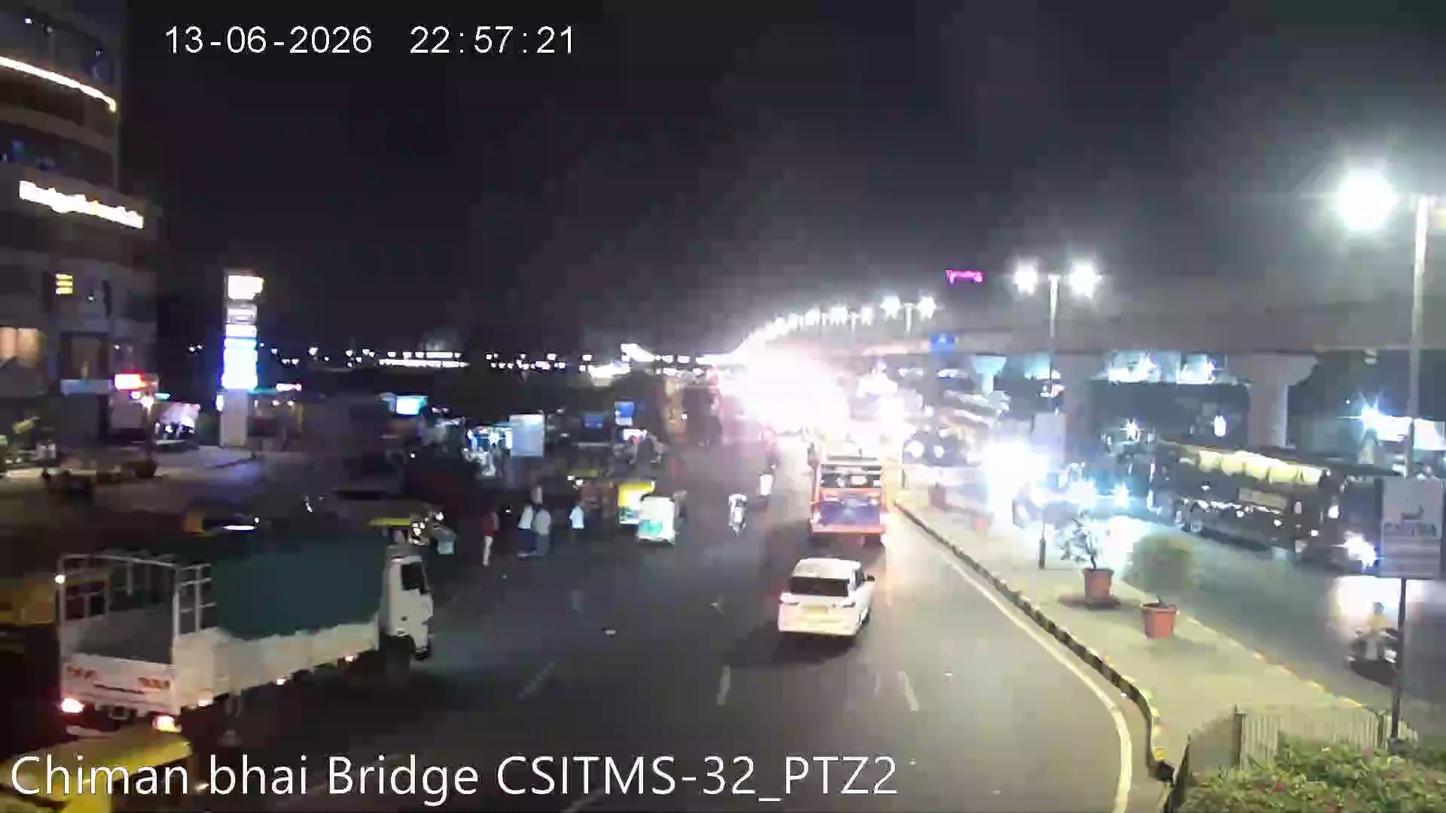auto_rickshaw: (634, 493, 683, 548), (613, 479, 655, 530)
bus: (39, 501, 454, 735), (1149, 444, 1431, 584), (804, 454, 889, 544)
car: (774, 550, 879, 643)
pedestrian: (476, 501, 501, 572), (518, 496, 545, 560), (522, 491, 547, 558), (720, 488, 751, 542), (509, 497, 530, 570), (513, 496, 534, 564), (533, 494, 553, 557), (539, 493, 556, 558), (566, 493, 588, 541)
